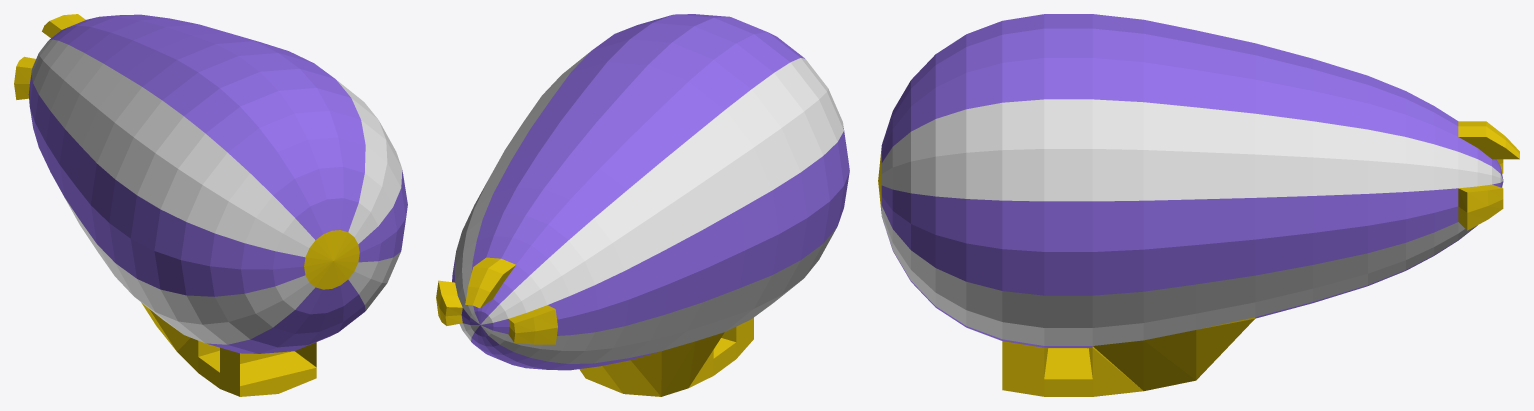
The model's file is finalzeplinnoutide.fbx.
3 renders of one model, left to right at view 1: azimuth 30°, elevation 25°; view 2: azimuth 150°, elevation 25°; view 3: azimuth 270°, elevation 25°, orthographic. The views are drawn at different scales.
Parts seen in each view (by area): view 1: pSphere1; view 2: pSphere1; view 3: pSphere1.
Boxes of the visible parts, x1,y1,x2,y2 form: pSphere1: (14,14,407,396); pSphere1: (436,14,849,396); pSphere1: (878,14,1519,396).
Bounding box in the file's own units: 6.82 × 7.8 × 13.01.
